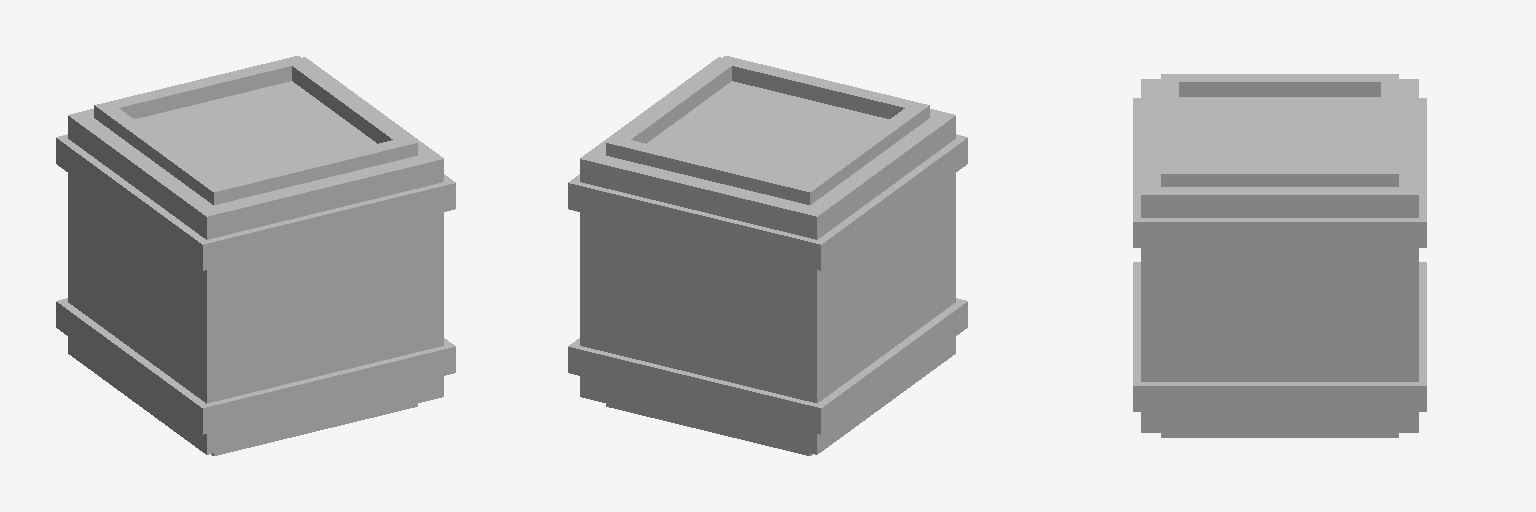
Rendered from square_barrel_offset.obj.
The picture shows the model from 3 angles: view 1: azimuth 30°, elevation 25°; view 2: azimuth 150°, elevation 25°; view 3: azimuth 270°, elevation 25°; orthographic projection.
Visible parts, largest first — view 1: Square_Barrel_Offset_Cube.047; view 2: Square_Barrel_Offset_Cube.047; view 3: Square_Barrel_Offset_Cube.047.
Boxes of the visible parts, x1=… form: Square_Barrel_Offset_Cube.047: x1=56, y1=56, x2=455, y2=455; Square_Barrel_Offset_Cube.047: x1=568, y1=56, x2=967, y2=455; Square_Barrel_Offset_Cube.047: x1=1133, y1=74, x2=1426, y2=437.
Bounding box in the file's own units: 1 × 0.9973 × 1.01.